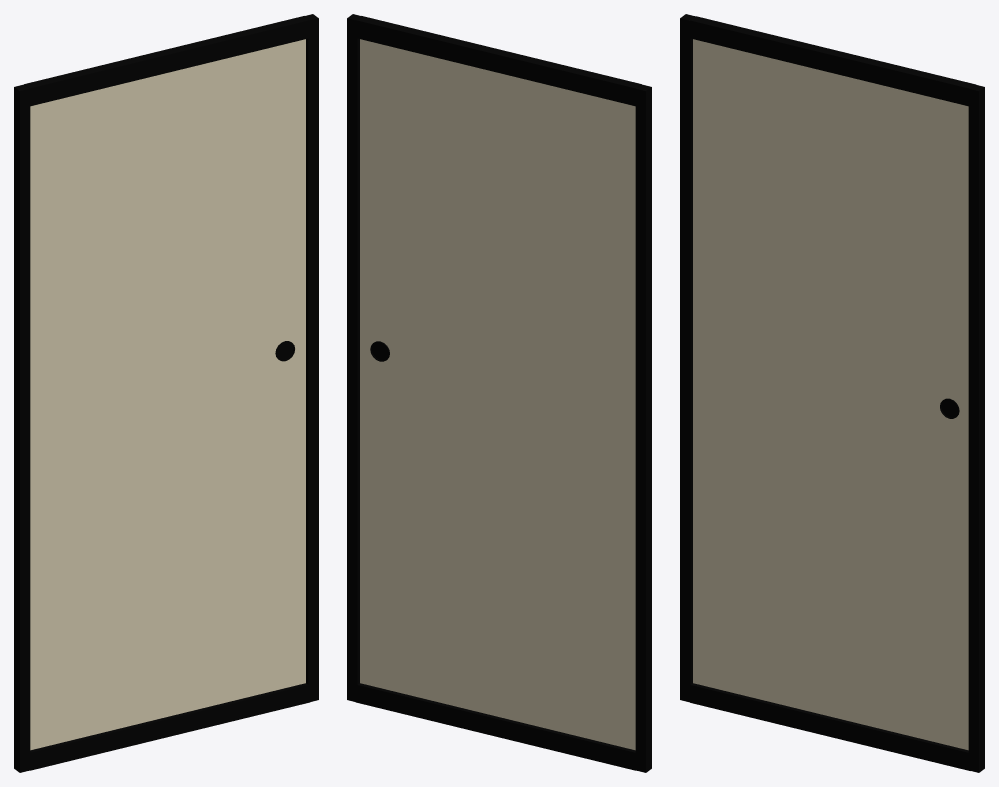
The model's file is fusuma2.fbx.
3 renders of one model, left to right at view 1: azimuth 30°, elevation 25°; view 2: azimuth 150°, elevation 25°; view 3: azimuth 330°, elevation 25°, orthographic.
Parts seen in each view (by area): view 1: Fusuma_06__14_; view 2: Fusuma_06__14_; view 3: Fusuma_06__14_.
Boxes of the visible parts, x1,y1,x2,y2 form: Fusuma_06__14_: [14, 14, 318, 772]; Fusuma_06__14_: [347, 14, 651, 772]; Fusuma_06__14_: [680, 14, 984, 772].
Size of the model in its own units: 88 by 192 by 3.
